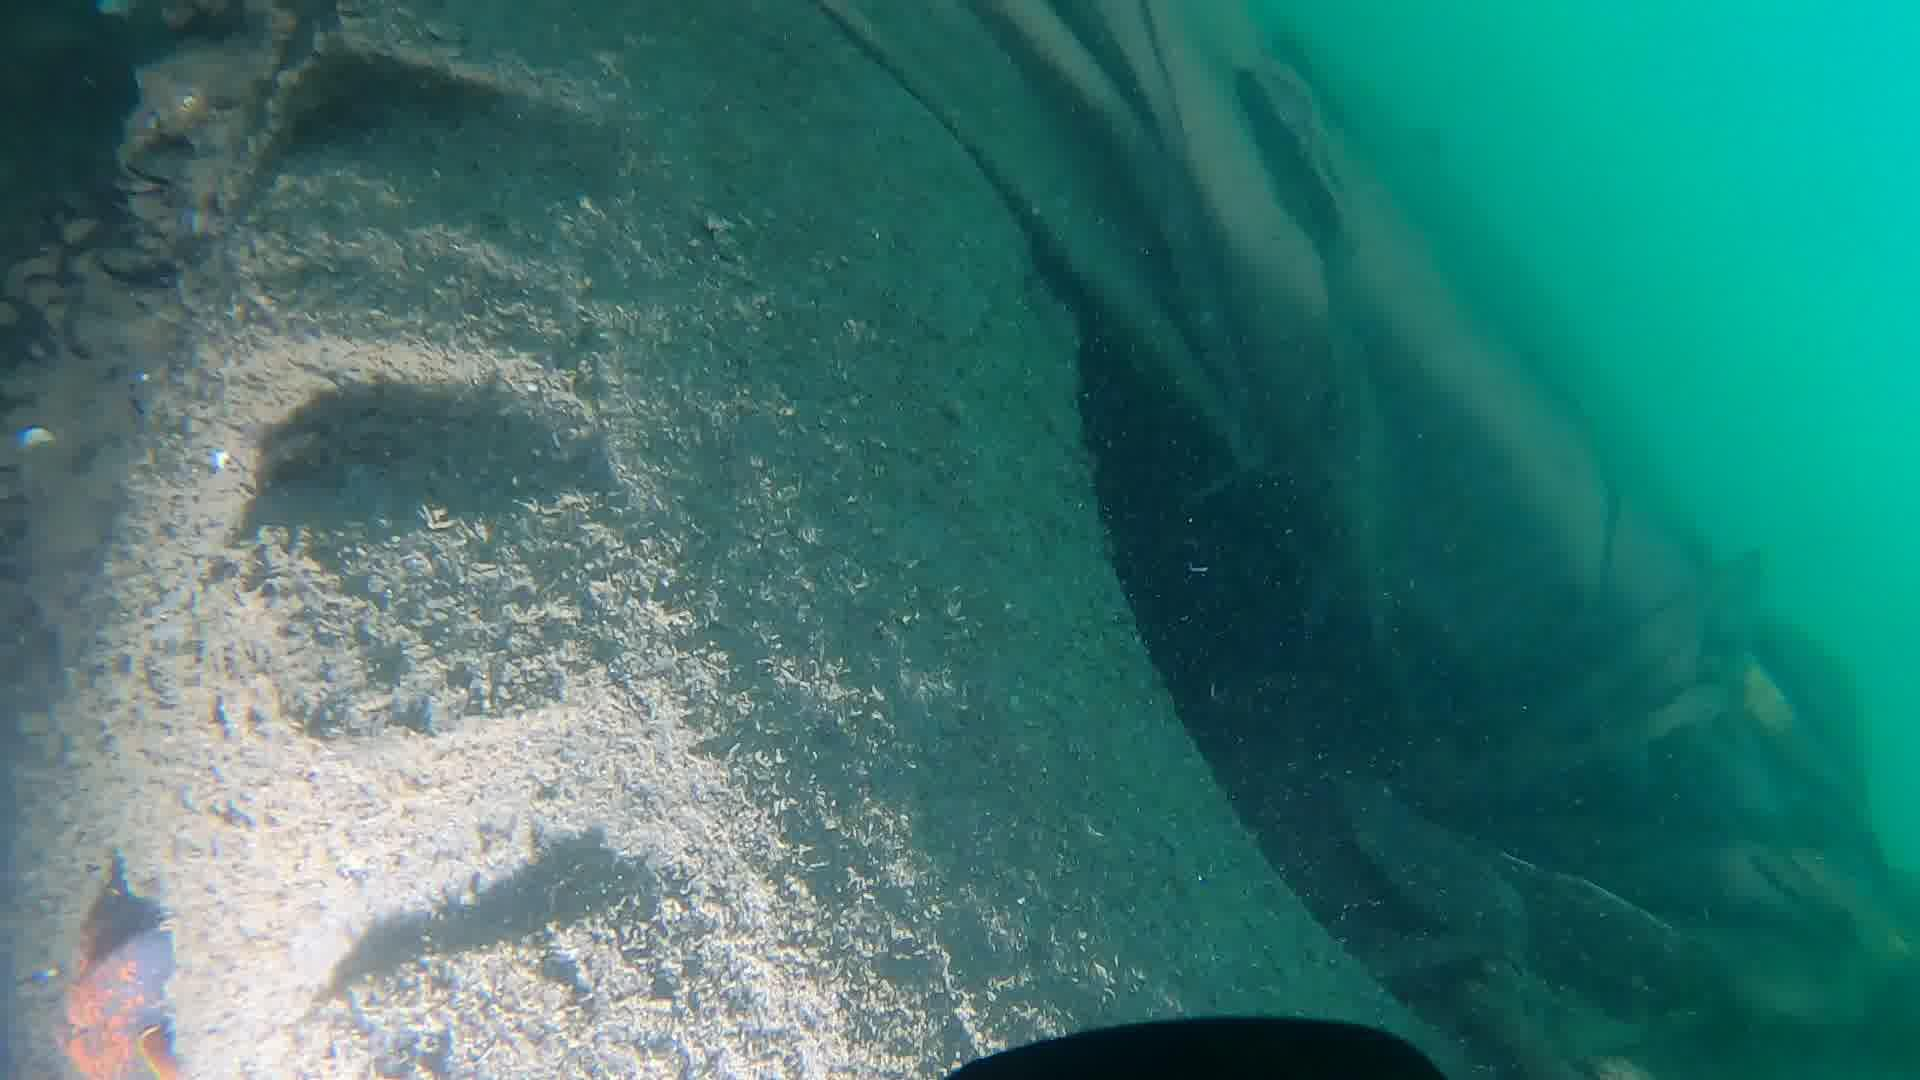tire: (79, 0, 1490, 1080)
